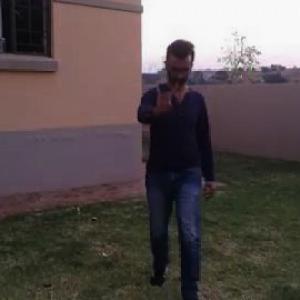takeoff-hand: (150, 78, 181, 118)
